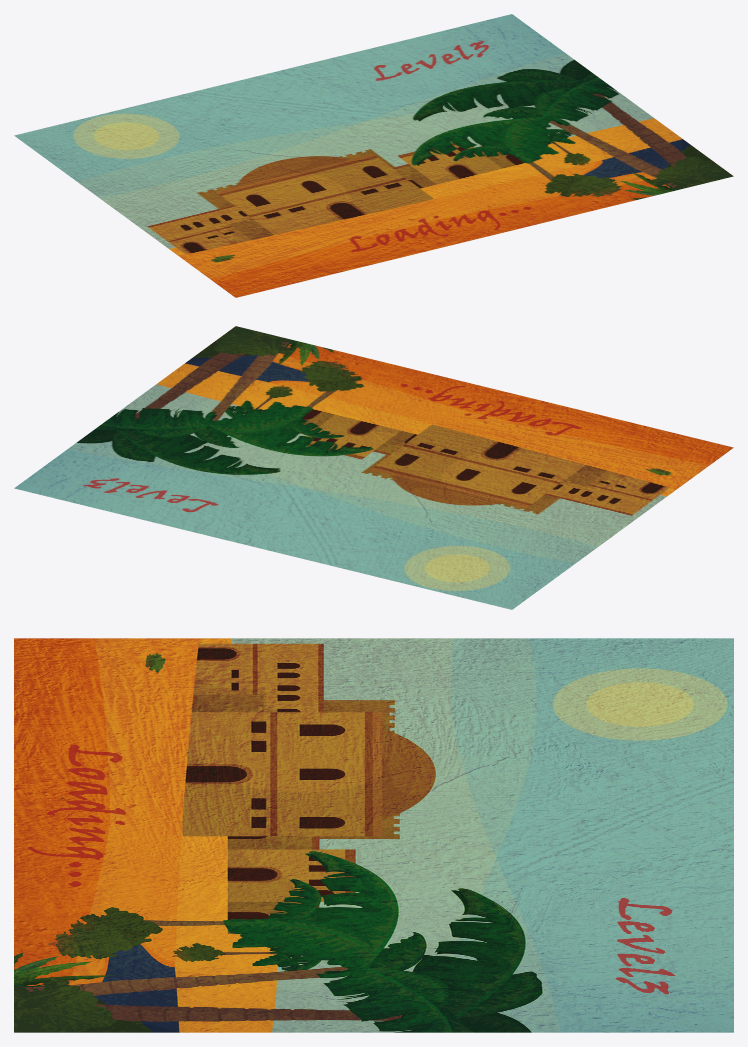
File: level3.obj
The picture shows the model from 3 angles, top to bottom: view 1: azimuth 30°, elevation 25°; view 2: azimuth 150°, elevation 25°; view 3: azimuth 270°, elevation 25°; orthographic projection. The views are drawn at different scales.
Visible parts, largest first — view 1: Plane001; view 2: Plane001; view 3: Plane001.
Part boxes in pixels (x1,y1,x2,y2): Plane001: [14, 14, 733, 297]; Plane001: [14, 326, 733, 609]; Plane001: [14, 638, 733, 1032].
Bounding box in the file's own units: 148 × 0 × 114.
